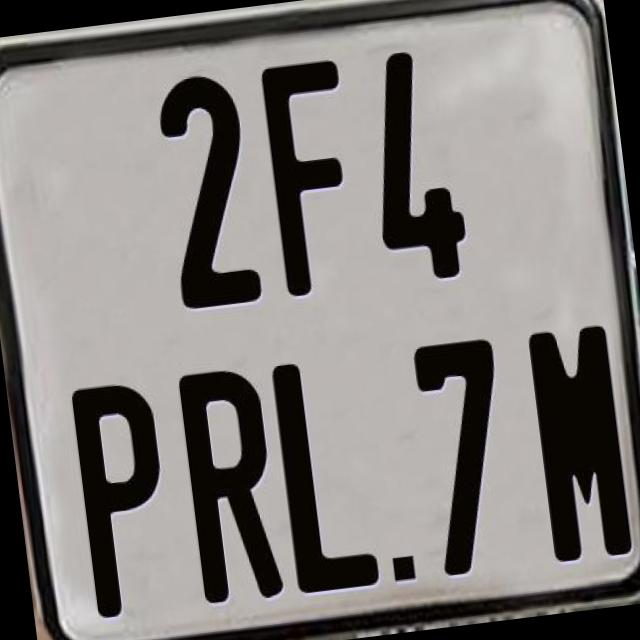2: (151, 66, 263, 314)
4: (361, 44, 478, 284)
7: (410, 338, 522, 580)
F: (255, 57, 367, 300)
L: (270, 351, 387, 594)
M: (523, 322, 636, 564)
P: (68, 380, 176, 623)
R: (176, 362, 287, 600)
